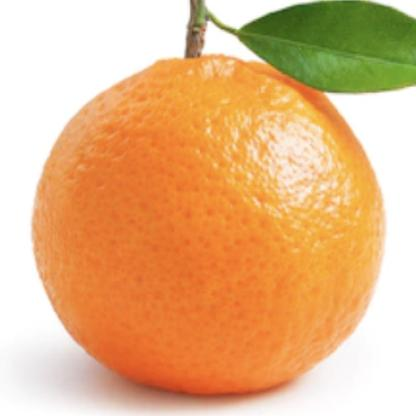fresh: (32, 51, 383, 397)
